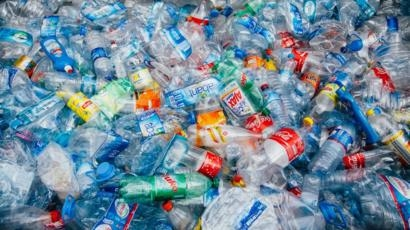plastic: (233, 116, 319, 189), (114, 166, 226, 211), (309, 117, 366, 177), (333, 86, 379, 144), (62, 89, 115, 136), (83, 30, 120, 83), (257, 80, 291, 129), (37, 35, 75, 75), (159, 198, 206, 230)
